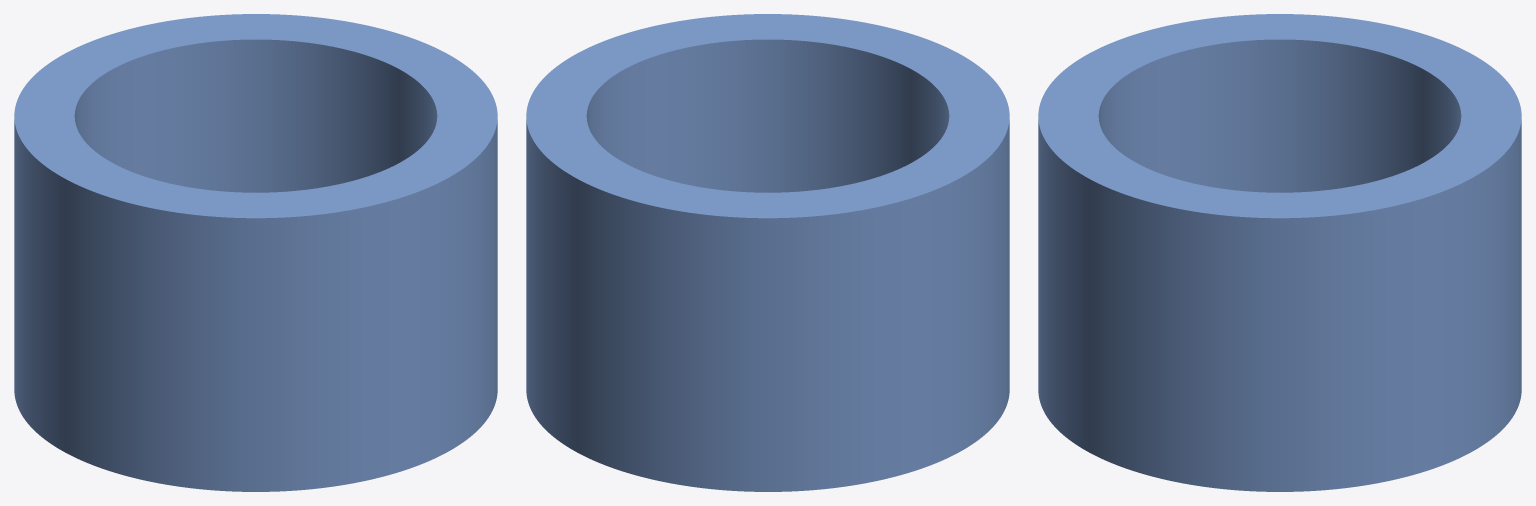
The model's file is StairCase - Wall.gltf.
3 renders of one model, left to right at view 1: azimuth 30°, elevation 25°; view 2: azimuth 150°, elevation 25°; view 3: azimuth 270°, elevation 25°, orthographic.
Visible parts, largest first — view 1: Wall; view 2: Wall; view 3: Wall.
Boxes of the visible parts, box(x1,y1,x2,y2) form: Wall: box(14, 14, 497, 491); Wall: box(526, 14, 1009, 491); Wall: box(1038, 14, 1521, 491).
Size of the model in its own units: 8 by 5 by 8.
